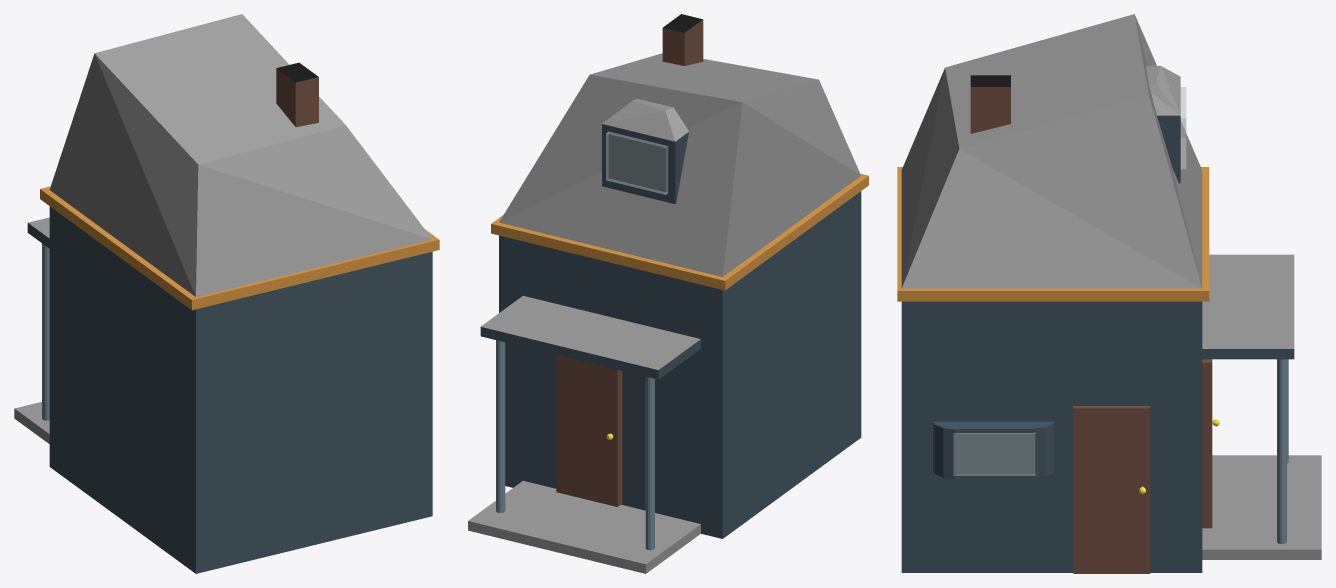
The model's file is Simple house.glb.
3 renders of one model, left to right at view 1: azimuth 30°, elevation 25°; view 2: azimuth 150°, elevation 25°; view 3: azimuth 270°, elevation 25°, orthographic. The views are drawn at different scales.
Parts seen in each view (by area): view 1: group853633661, group339549510, group1945510943, group1171477614, group1228325886, group667056129; view 2: group853633661, group667056129, group404464249, group165413229, group611002409, group441510305, group30643915, group1945510943, group1171477614, group1228325886, group528904283; view 3: group853633661, group596348655, group667056129, group404464249, group682691290, group1377074065, group1519724666, group611002409, group1171477614, group165413229, group528904283, group938554266 (+4 smaller).
Boxes of the visible parts, <box> form: group853633661: <box>49,14,432,573</box>; group339549510: <box>189,239,434,309</box>; group1945510943: <box>40,186,205,310</box>; group1171477614: <box>276,62,318,127</box>; group1228325886: <box>42,243,49,420</box>; group667056129: <box>14,402,49,443</box>; group853633661: <box>499,53,861,538</box>; group667056129: <box>468,480,700,573</box>; group404464249: <box>480,296,700,379</box>; group165413229: <box>556,355,622,506</box>; group611002409: <box>602,99,688,203</box>; group441510305: <box>606,132,667,194</box>; group30643915: <box>500,223,729,290</box>; group1945510943: <box>725,173,868,289</box>; group1171477614: <box>662,14,703,65</box>; group1228325886: <box>645,377,654,550</box>; group528904283: <box>496,340,505,512</box>; group853633661: <box>901,14,1202,572</box>; group596348655: <box>1073,406,1150,573</box>; group667056129: <box>1202,455,1321,559</box>; group404464249: <box>1202,254,1294,359</box>; group682691290: <box>897,286,1209,301</box>; group1377074065: <box>953,421,1033,478</box>; group1519724666: <box>953,432,1035,475</box>; group611002409: <box>1146,65,1180,183</box>; group1171477614: <box>970,75,1010,133</box>; group165413229: <box>1202,359,1212,528</box>; group528904283: <box>1277,359,1286,543</box>; group938554266: <box>933,421,976,478</box>.
Size of the model in its own units: 2.14 by 3.42 by 2.95.
